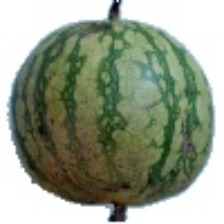watermelon: (0, 27, 200, 196)
